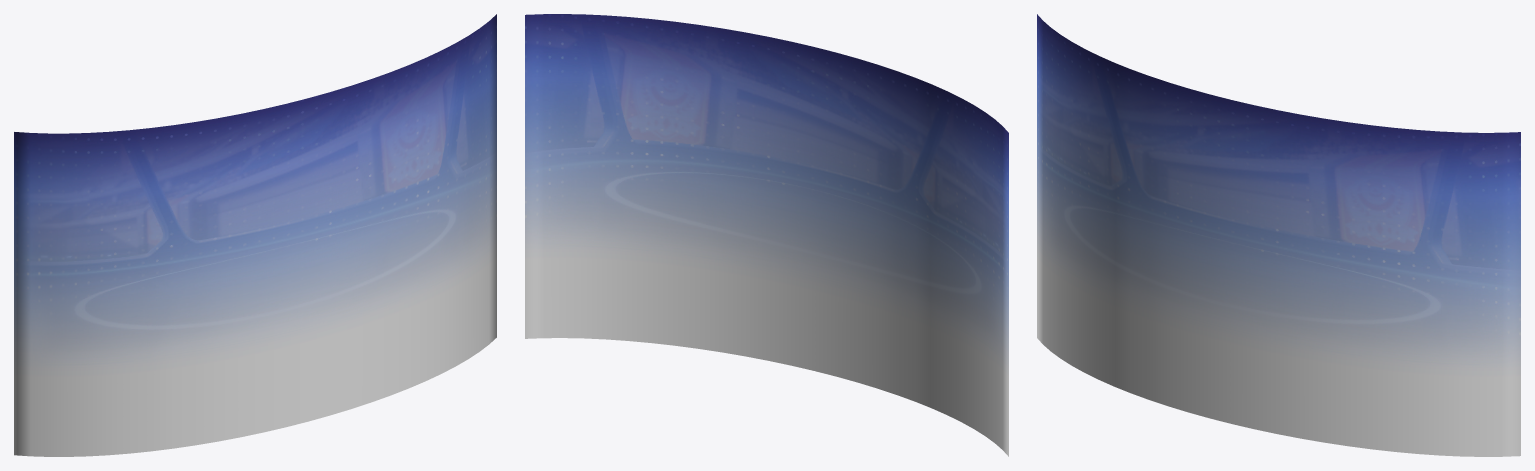
The model's file is pref_scene_bgBanPick.fbx.
3 views of the same model, side by side, from view 1: azimuth 30°, elevation 25°; view 2: azimuth 150°, elevation 25°; view 3: azimuth 330°, elevation 25° (orthographic).
Visible parts, largest first — view 1: sm_lobby_BanPickPage_background01_lv3; view 2: sm_lobby_BanPickPage_background01_lv3; view 3: sm_lobby_BanPickPage_background01_lv3.
Part boxes in pixels (x1=…): sm_lobby_BanPickPage_background01_lv3: x1=14, y1=14, x2=496, y2=456; sm_lobby_BanPickPage_background01_lv3: x1=525, y1=14, x2=1008, y2=456; sm_lobby_BanPickPage_background01_lv3: x1=1037, y1=14, x2=1520, y2=456.
Size of the model in its own units: 33.32 by 21.33 by 4.7.
1 material, 1 textured.
